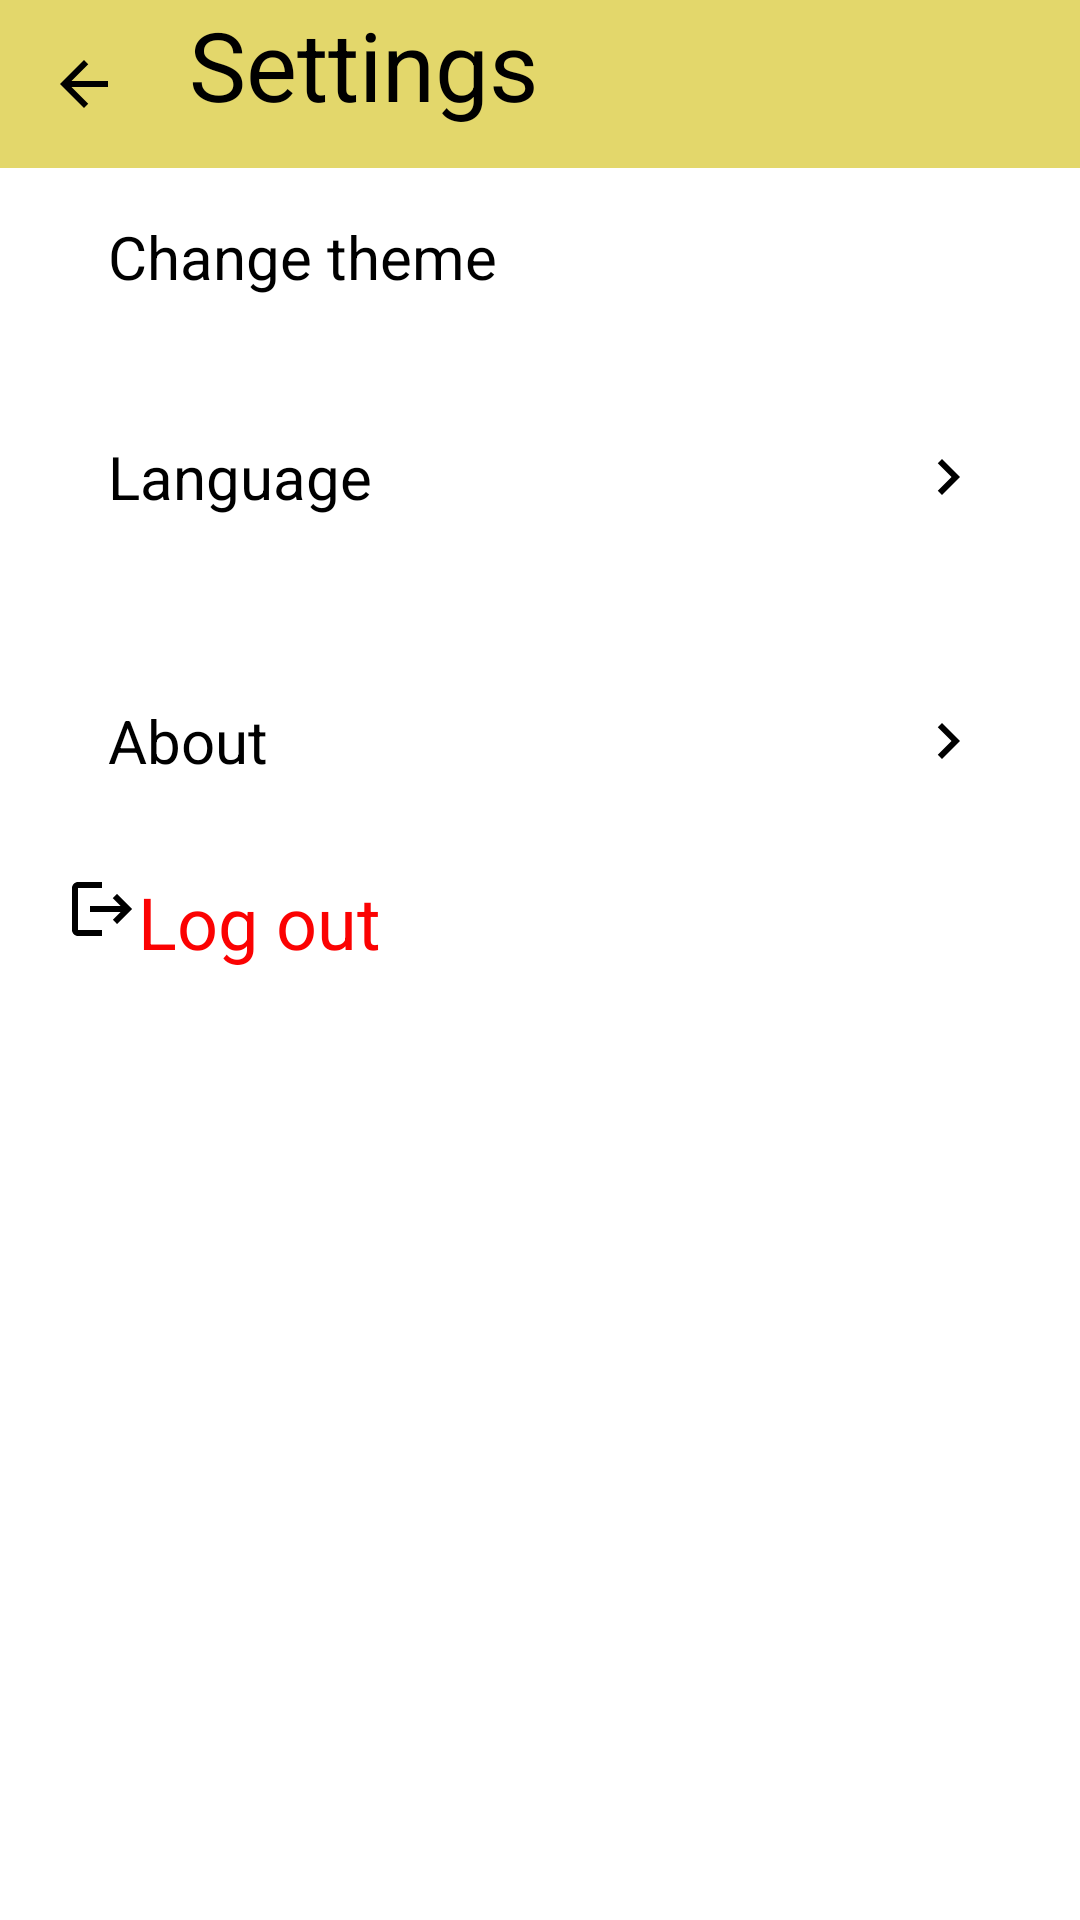

Locate icon controls on the screen. Image size 1080 x 1920, boxes as (x1, y1, x2, y2).
arrow back: (60, 60, 108, 108)
chevron right: (938, 459, 960, 495), (938, 723, 960, 759)
